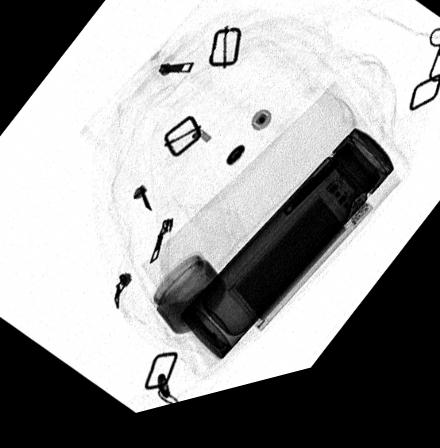Powerbank: (224, 192, 375, 346)
